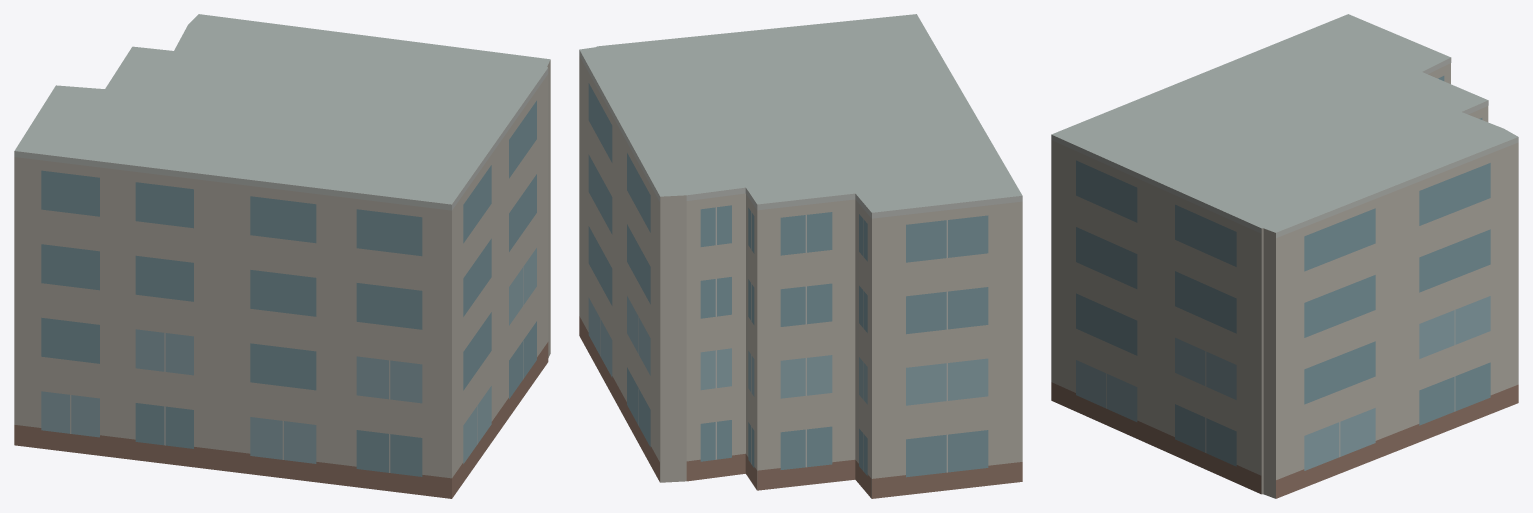
File: survey-upis-32836610.glb
3 views of the same model, side by side, from view 1: azimuth 30°, elevation 25°; view 2: azimuth 150°, elevation 25°; view 3: azimuth 270°, elevation 25° (orthographic). The views are drawn at different scales.
Parts seen in each view (by area): view 1: survey-upis-32836610.tmp; view 2: survey-upis-32836610.tmp; view 3: survey-upis-32836610.tmp.
Boxes of the visible parts, bbox=[...] form: survey-upis-32836610.tmp: bbox=[14, 14, 550, 498]; survey-upis-32836610.tmp: bbox=[579, 14, 1022, 498]; survey-upis-32836610.tmp: bbox=[1051, 14, 1518, 498].
Size of the model in its own units: 21 by 11.9 by 18.95.
